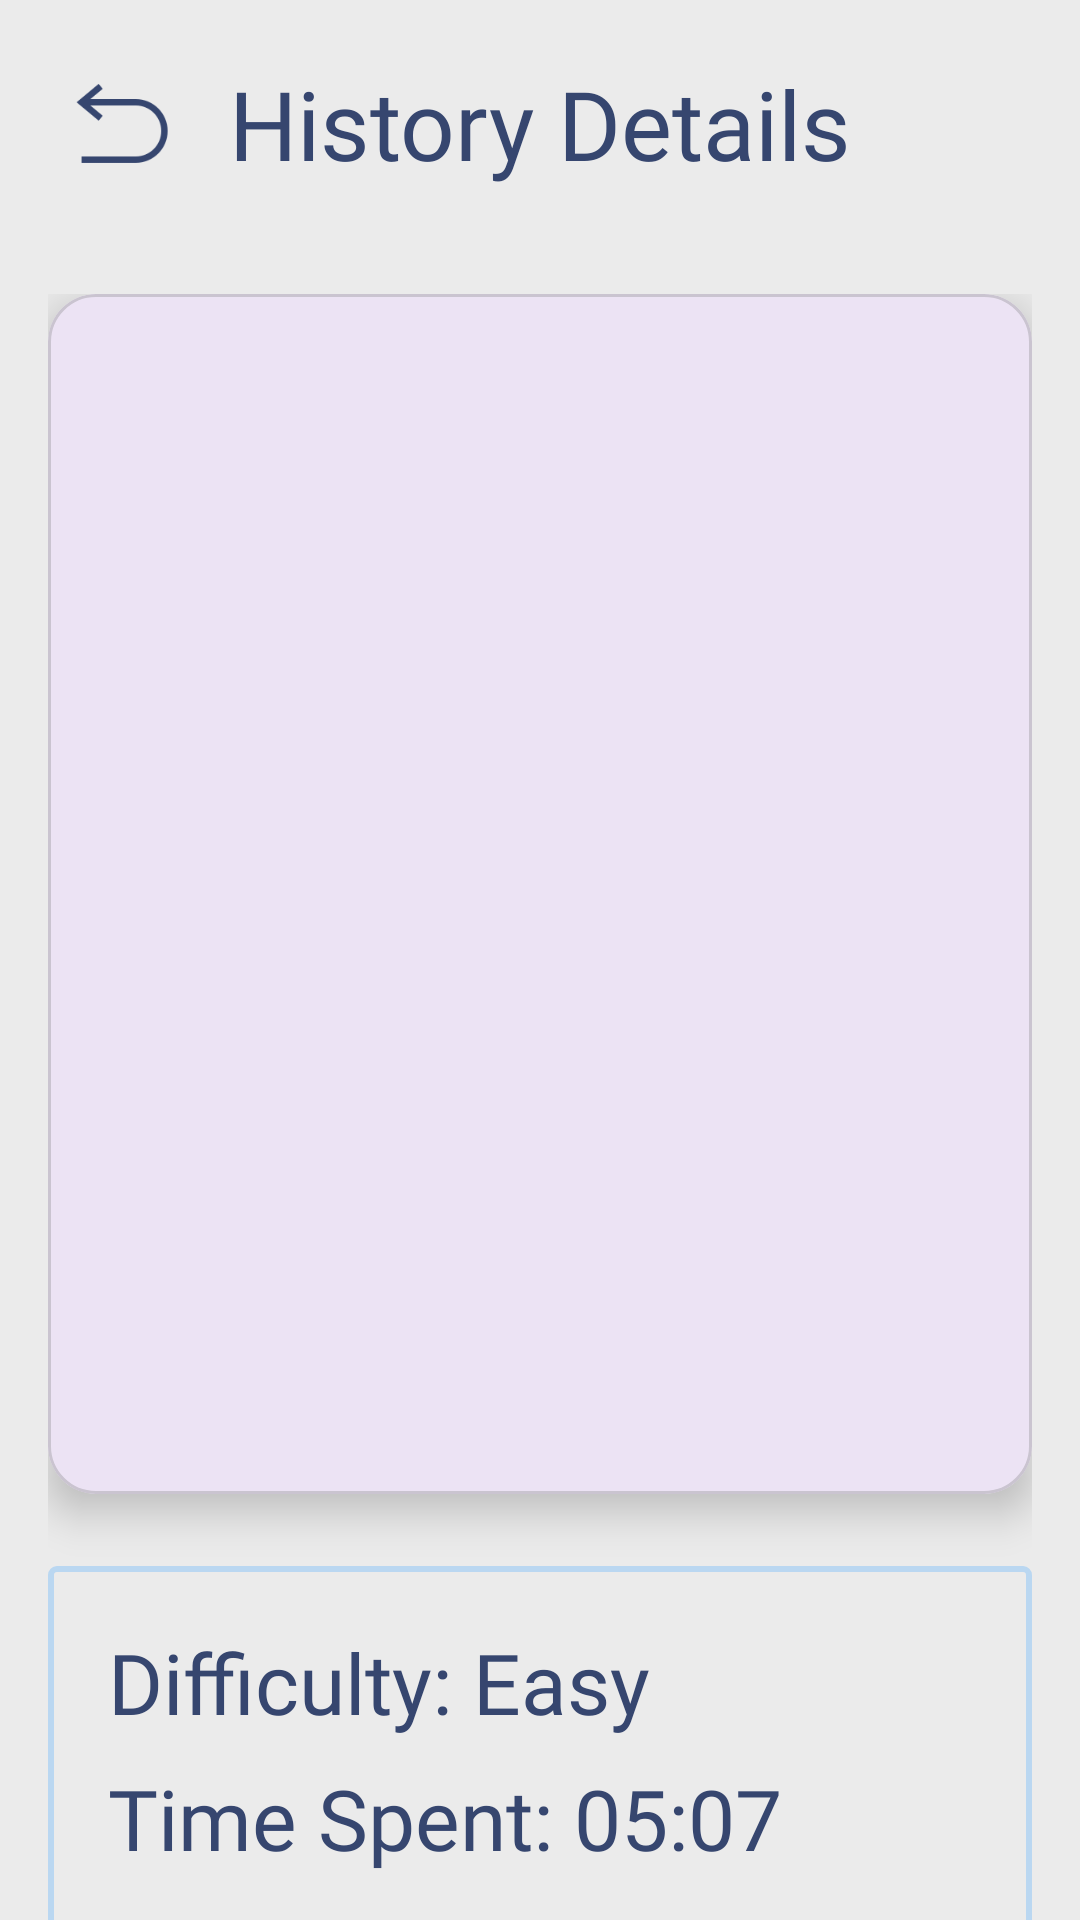

Where to tap for icons on this 1080px x 1920px app screen, as point (x, y):
back: point (122, 123)
